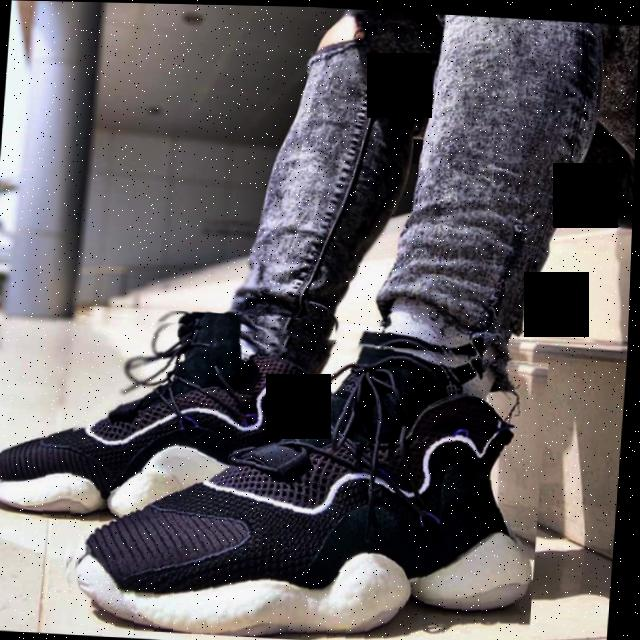shoe: (59, 311, 552, 640), (0, 300, 338, 532)
